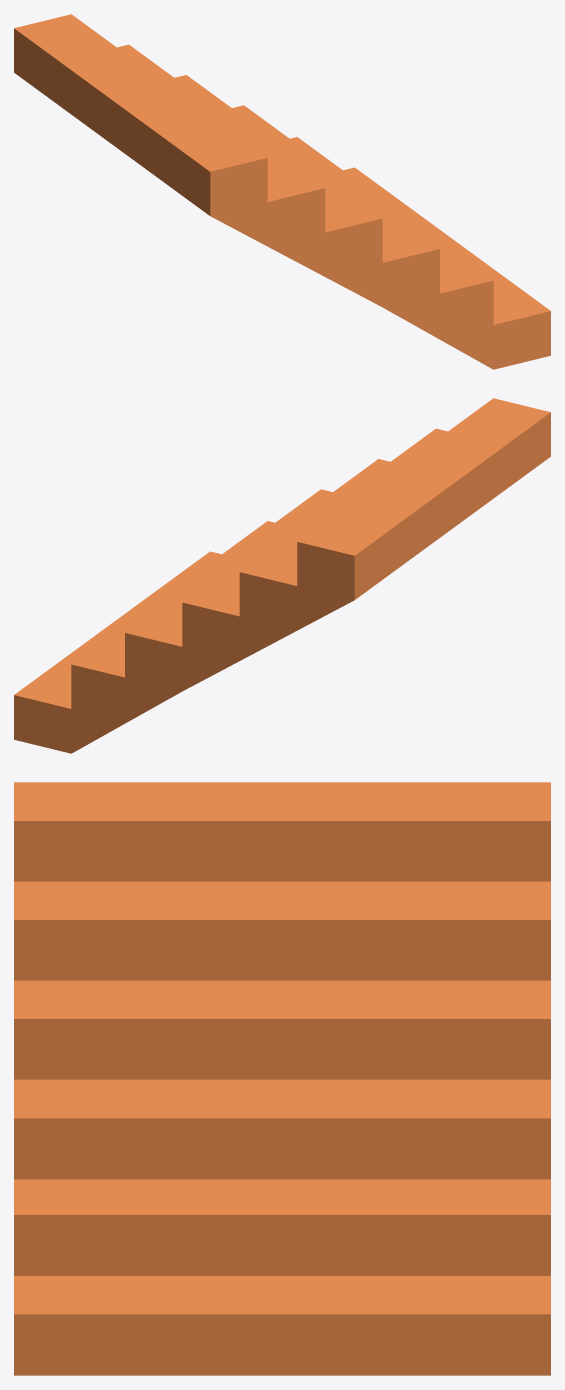
Rendered from MD_Stairs_Bigger.fbx.
3 views of the same model, one above another, from view 1: azimuth 30°, elevation 25°; view 2: azimuth 150°, elevation 25°; view 3: azimuth 270°, elevation 25° (orthographic). The views are drawn at different scales.
Parts seen in each view (by area): view 1: MD_Stairs_Bigger; view 2: MD_Stairs_Bigger; view 3: MD_Stairs_Bigger.
Boxes of the visible parts, left/top/right/bottom form: MD_Stairs_Bigger: left=14, top=14, right=550, bottom=369; MD_Stairs_Bigger: left=14, top=398, right=550, bottom=753; MD_Stairs_Bigger: left=14, top=782, right=550, bottom=1375.
Size of the model in its own units: 201 by 150 by 200.
